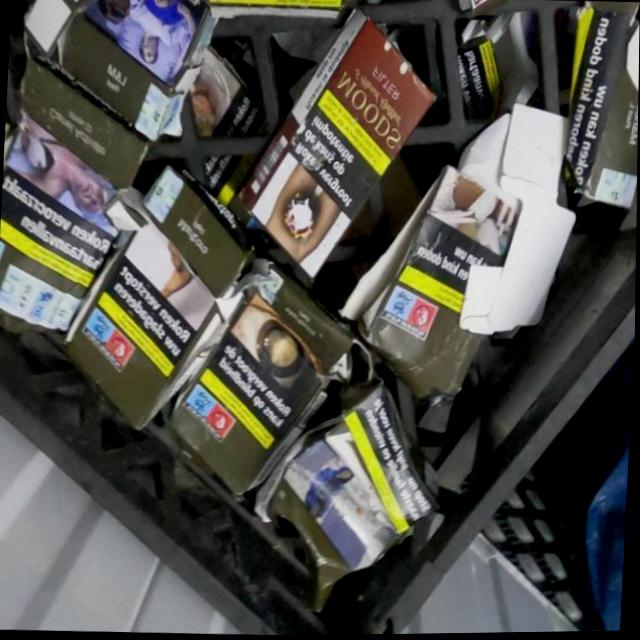Paper: (234, 3, 440, 285), (60, 162, 252, 438), (164, 246, 362, 505), (250, 377, 441, 621), (0, 53, 156, 336), (356, 157, 525, 409), (13, 0, 214, 148), (559, 1, 640, 211)
